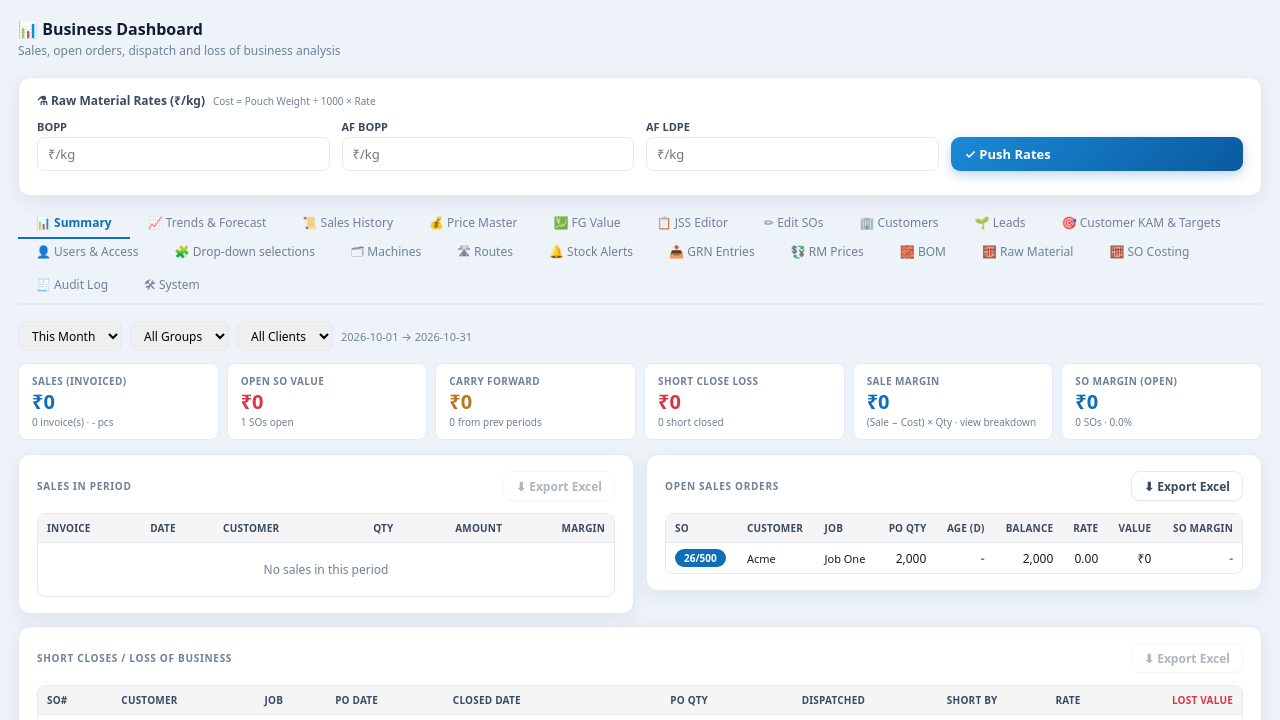
Scenario: Dashboard — BOM and Raw Material tabs › opens the editor prefilled from the saved BOM
The width and height of the screenshot is (1280, 720).
Click the text "🧱 BOM" at (923, 252), box [900, 243, 946, 260]
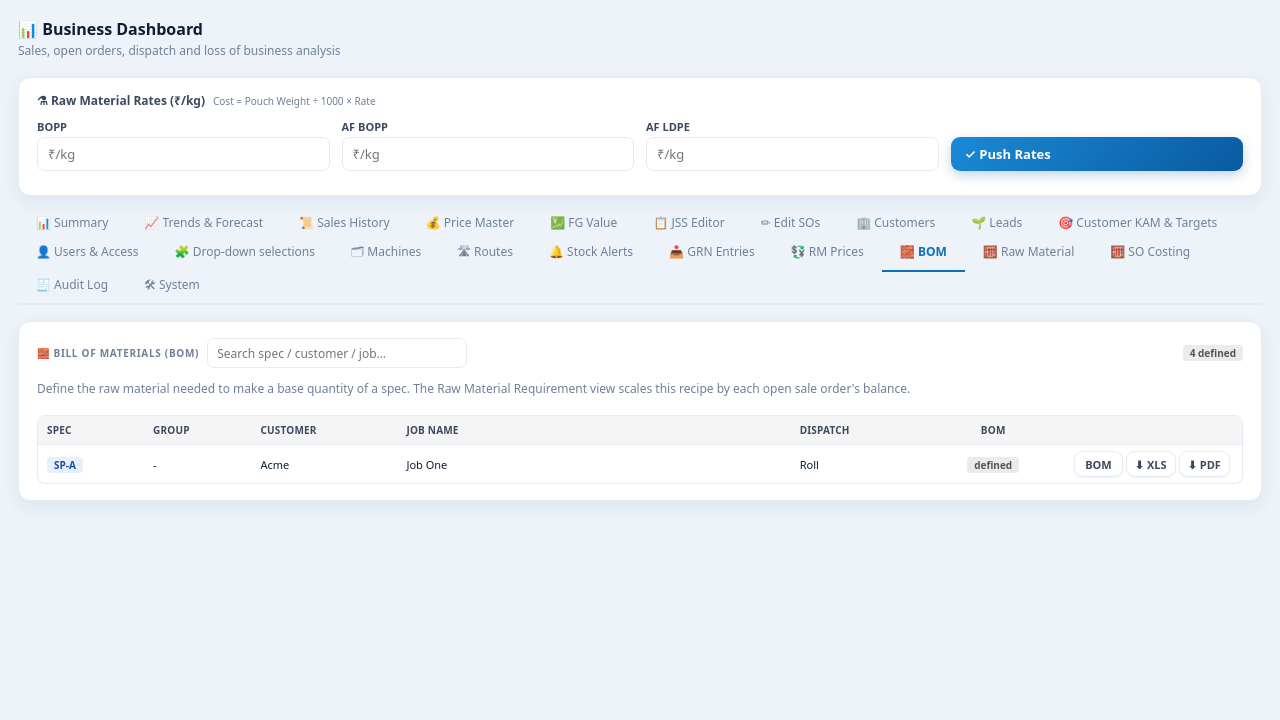
Click the button with aria-label "Edit BOM for SP-A" at (1098, 464), box [1074, 451, 1123, 477]
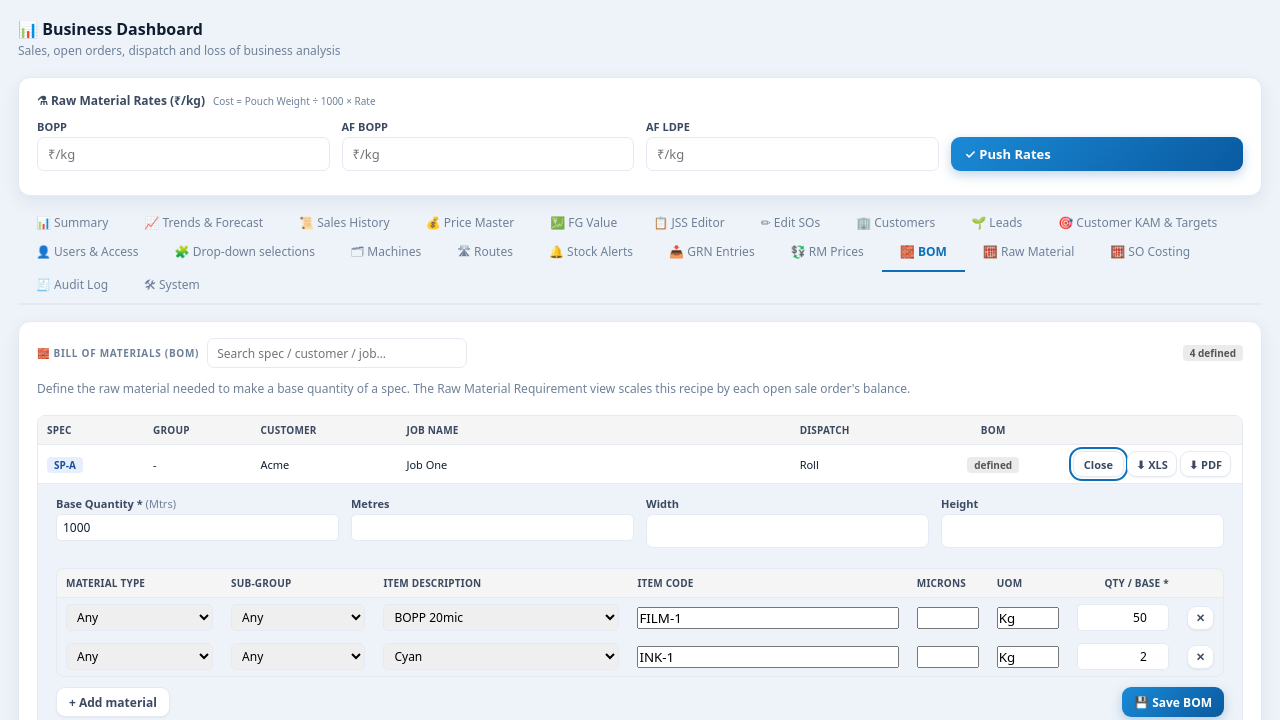
Check: the number field named "Base quantity" holds "1000", box [56, 514, 339, 541]
Check: the field named "Item Code row 1" holds "FILM-1", box [637, 606, 899, 628]
Check: the number field named "Qty per base row 1" holds "50", box [1077, 604, 1169, 631]
